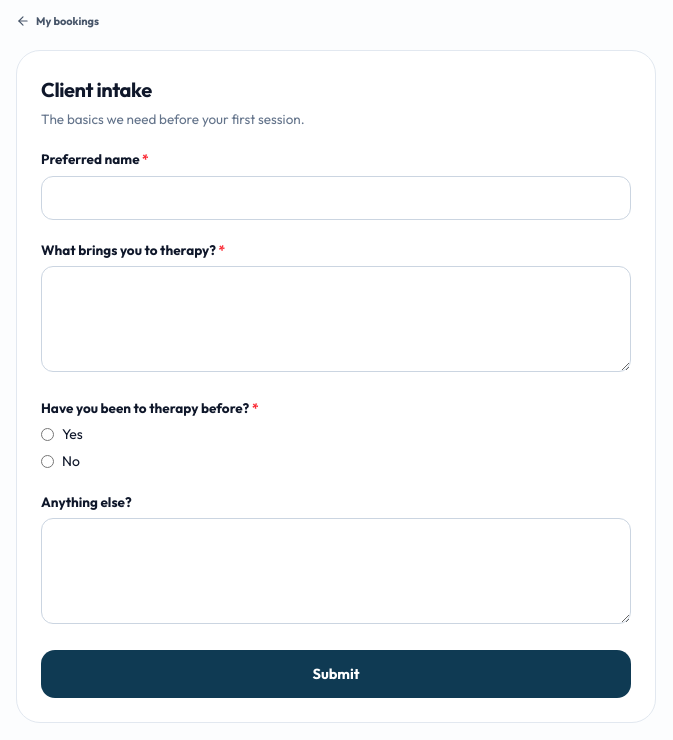
it: the client form page › renders the form and posts the answers as the signed-in client
Type "Ada" into the field labelled "Preferred name *". click: (336, 198)
box: [41,176,631,220]
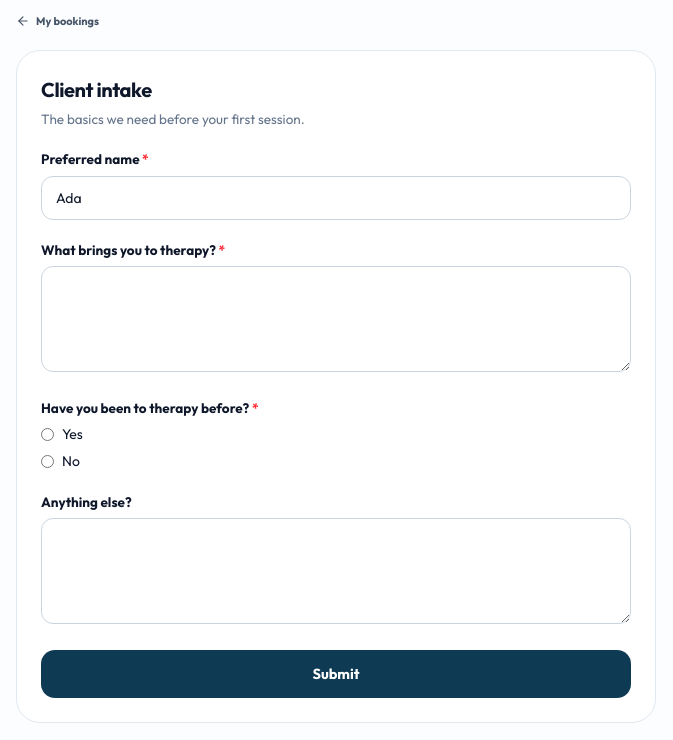
Type "A quiet mind." into the text box labelled "What brings you to therapy? *". click: (336, 319)
box: [41,266,631,372]
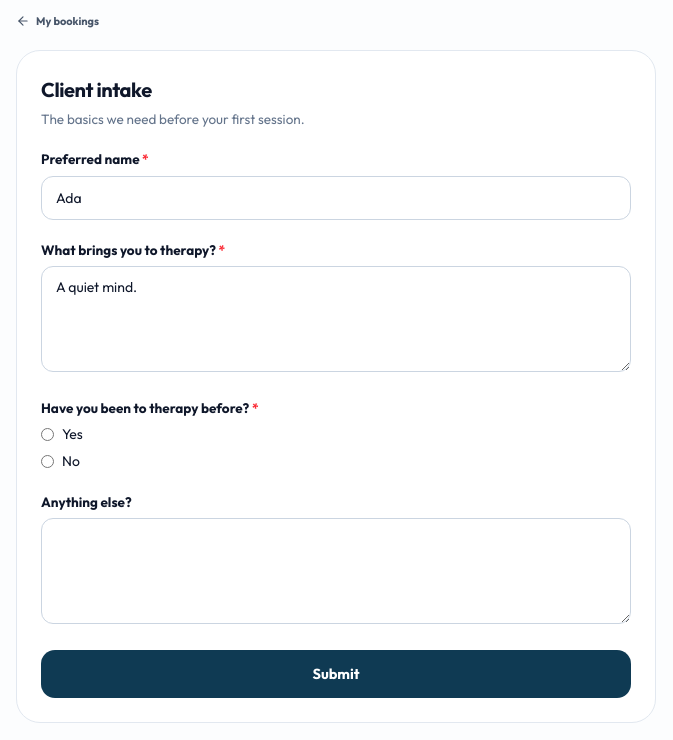
Click the radio button labelled "Yes". click: (48, 434)
box: [41,428,54,441]
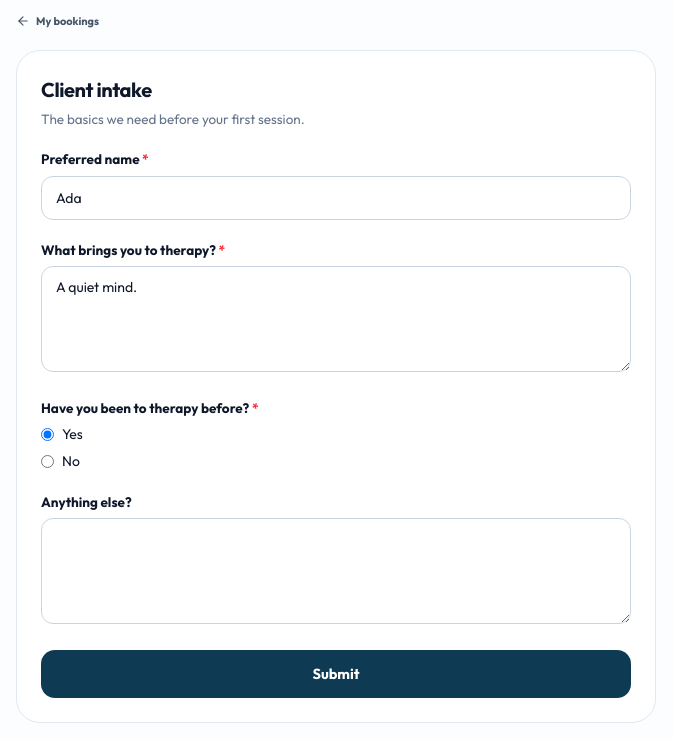
Click the button "Submit". click: (336, 674)
box: [41,650,631,698]
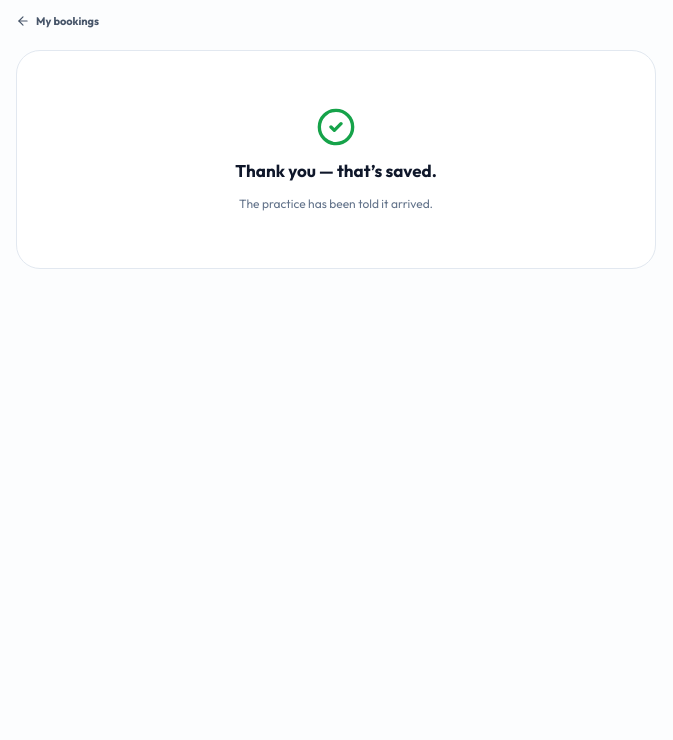
Expected: the heading "Thank you — that’s saved." is shown, [235,160,437,181]
